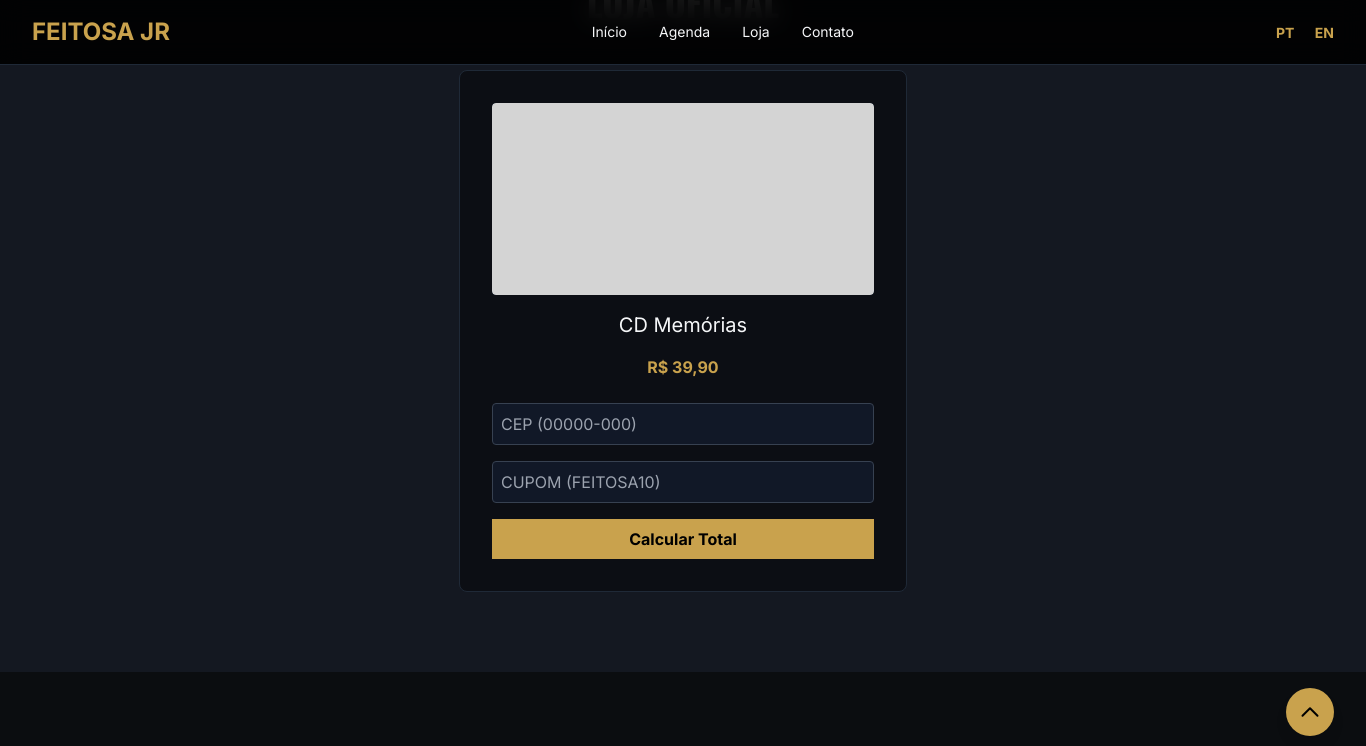
Test case: Teste de Checkout da Banda Feitosa Jr › Deve mostrar erro para CEP curto demais
(page scrolled)
Step 1. Type "123" into the field with id "cep" → (683, 424), box [492,403,874,445]
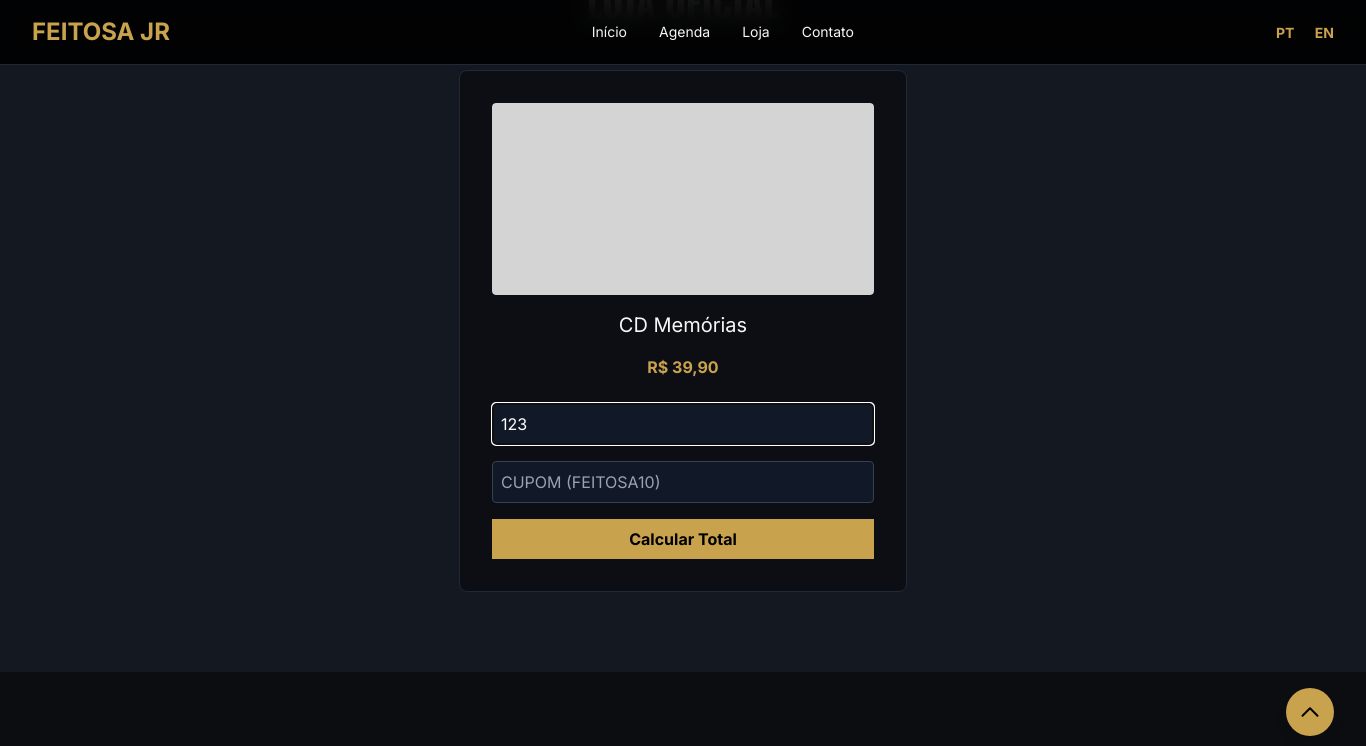
Step 2. Click the button "Calcular Total" → (683, 539), box [492,519,874,559]
(page scrolled)
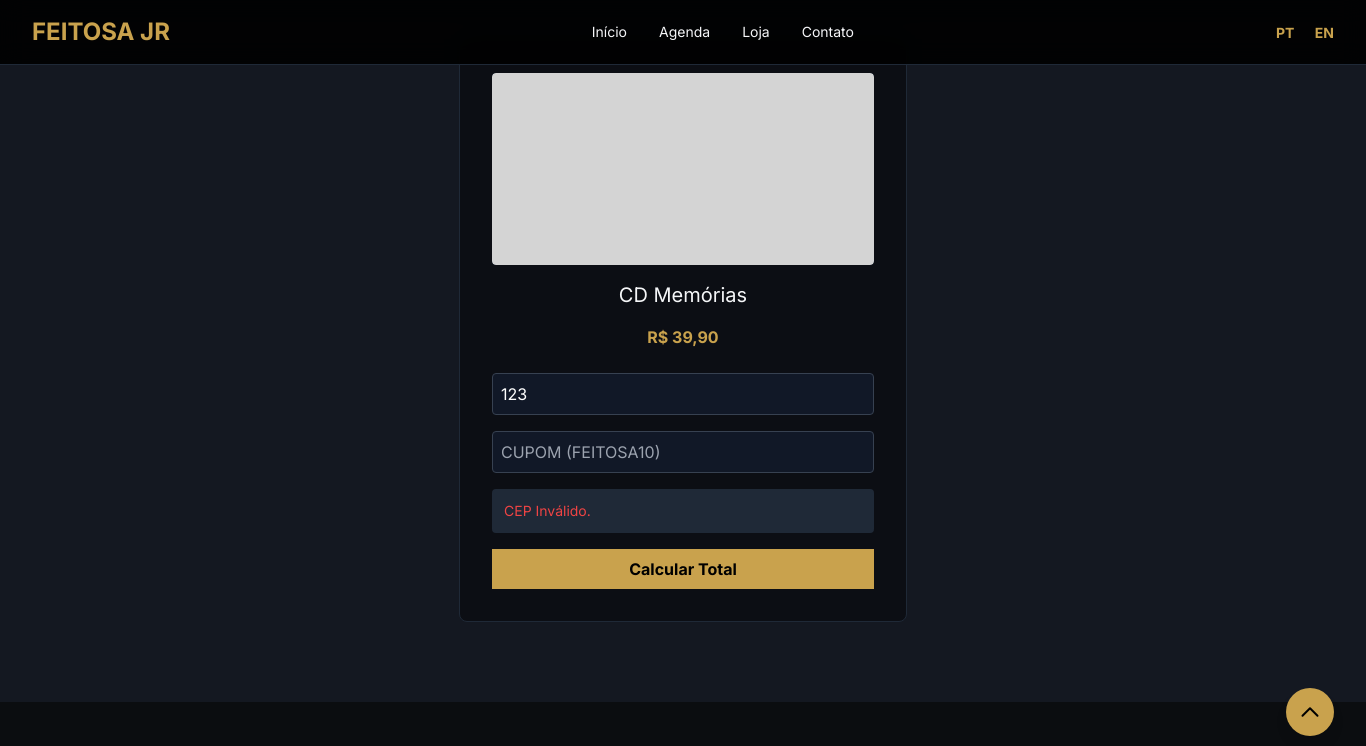
Expected: the text with id "resultado" shows "CEP Inválido", [504,502,591,519]
